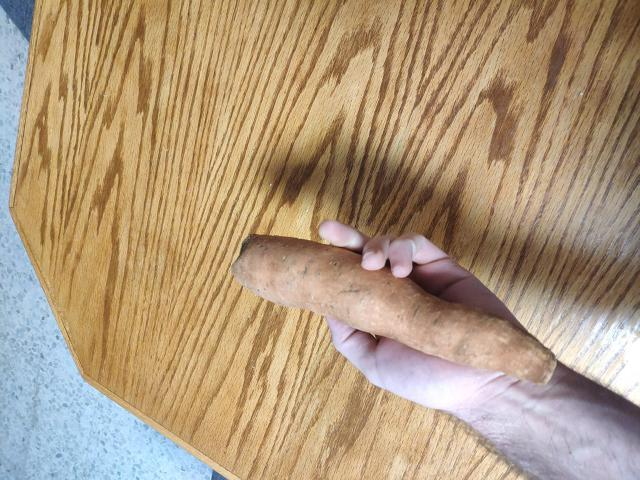sweet_potato: (229, 228, 559, 393)
